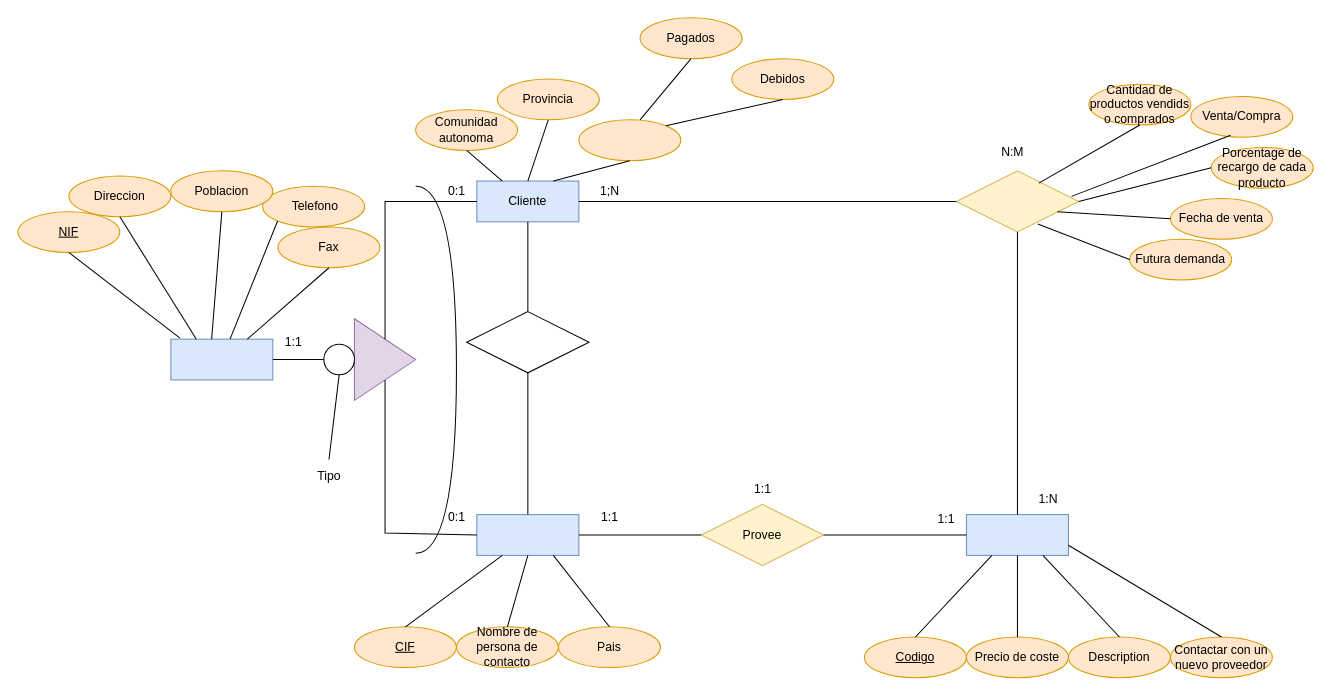
This 1331x696 diagram has some shape labels left out. The centre of each missing label's shape, as x and y in pixels:
Demanda: (x=1017, y=201)
Empresas: (x=221, y=359)
Portes: (x=629, y=140)
Producto: (x=1016, y=534)
Proveedoras: (x=527, y=534)
Tiene acuerdo: (x=527, y=342)
